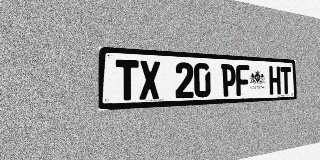0: (194, 63, 210, 98)
2: (175, 62, 193, 98)
F: (236, 65, 250, 96)
H: (269, 66, 281, 95)
P: (221, 64, 236, 97)
T: (116, 59, 139, 101), (280, 67, 291, 94)
X: (139, 60, 160, 100)
